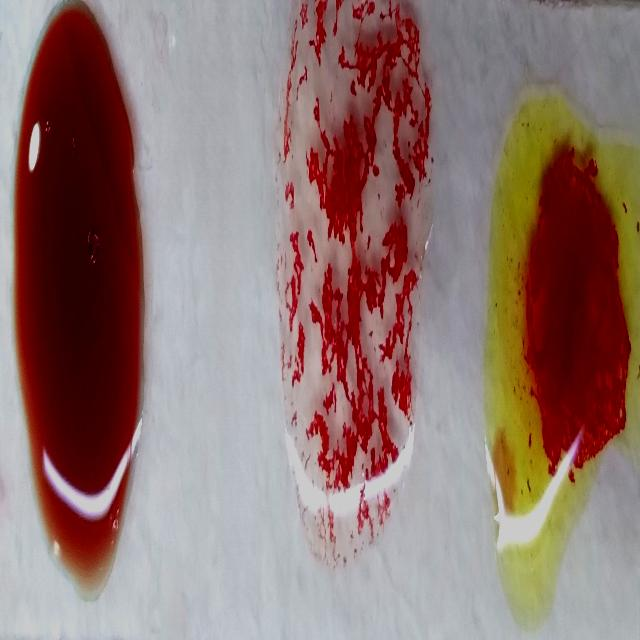B: (500, 103, 640, 583)
D: (280, 1, 424, 556)
